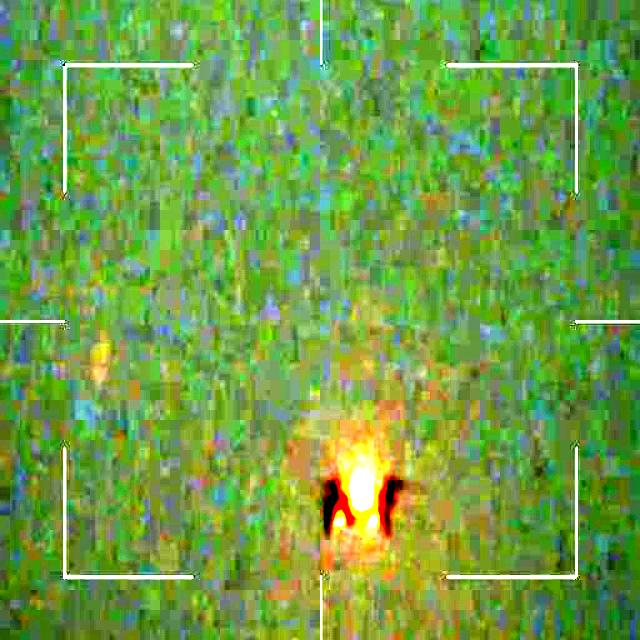bird: (320, 461, 404, 539)
